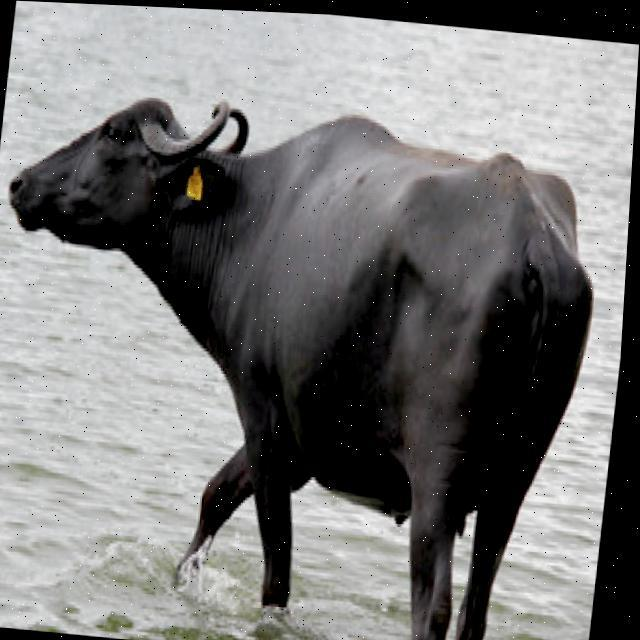Buffalo: (0, 69, 617, 640)
